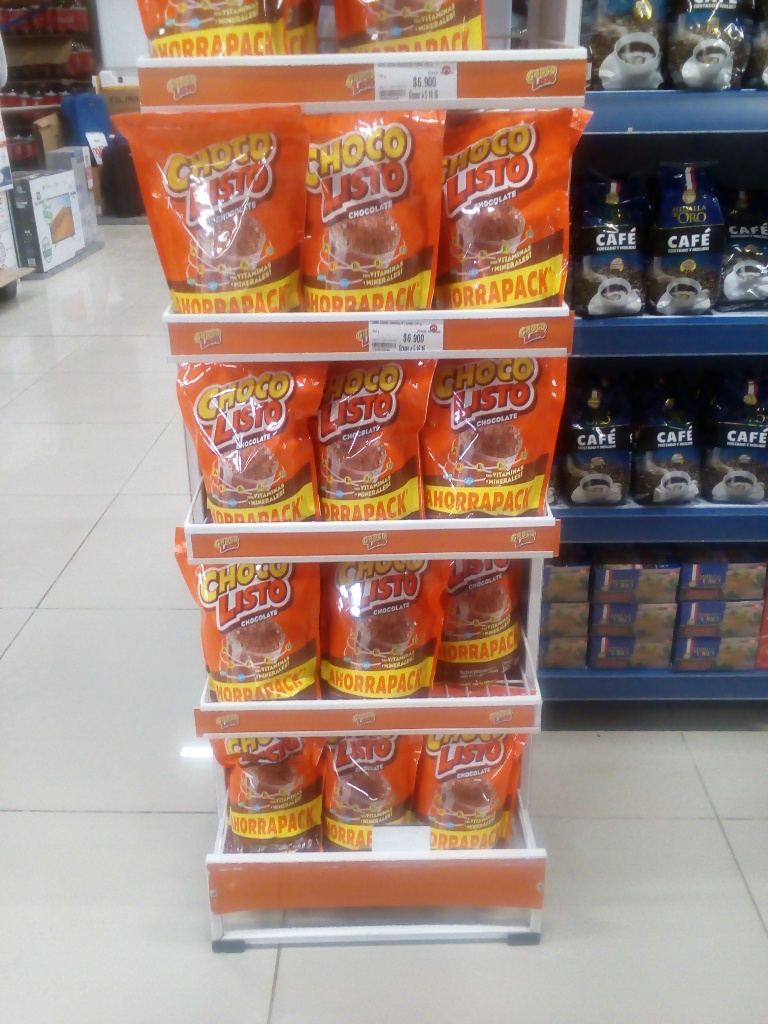COL0170103DYP36000: (142, 107, 299, 314)
